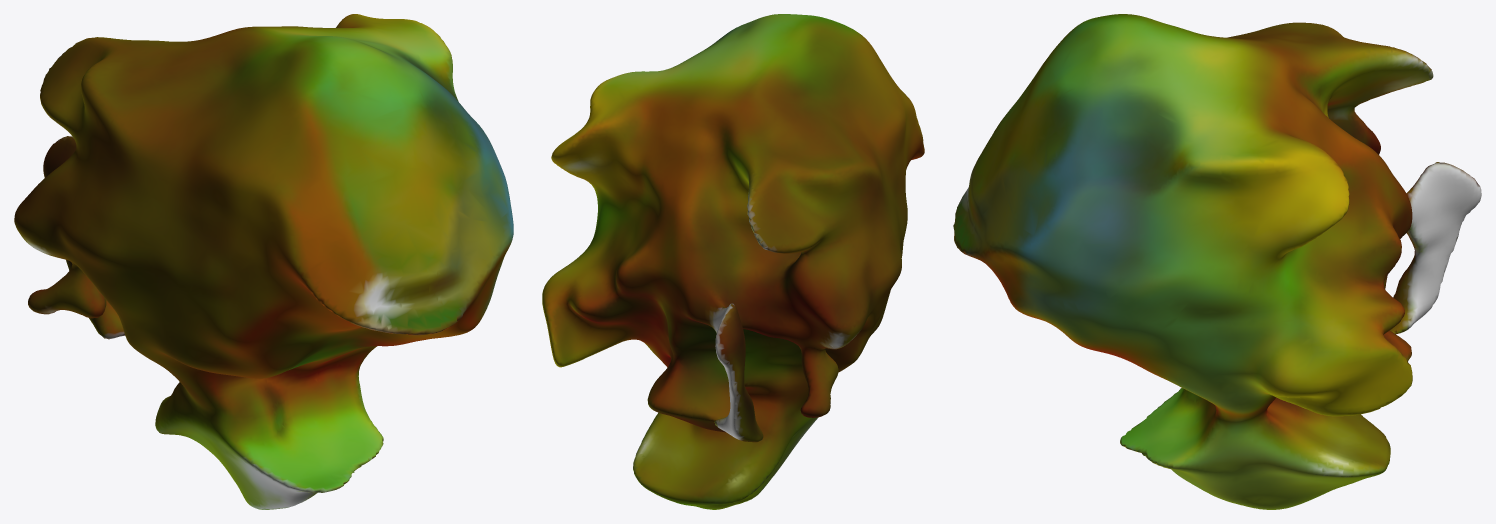
File: turtle.glb
3 views of the same model, side by side, from view 1: azimuth 30°, elevation 25°; view 2: azimuth 150°, elevation 25°; view 3: azimuth 270°, elevation 25° (orthographic). The views are drawn at different scales.
Bounding box in the file's own units: 0.7722 × 0.9995 × 0.9919.
